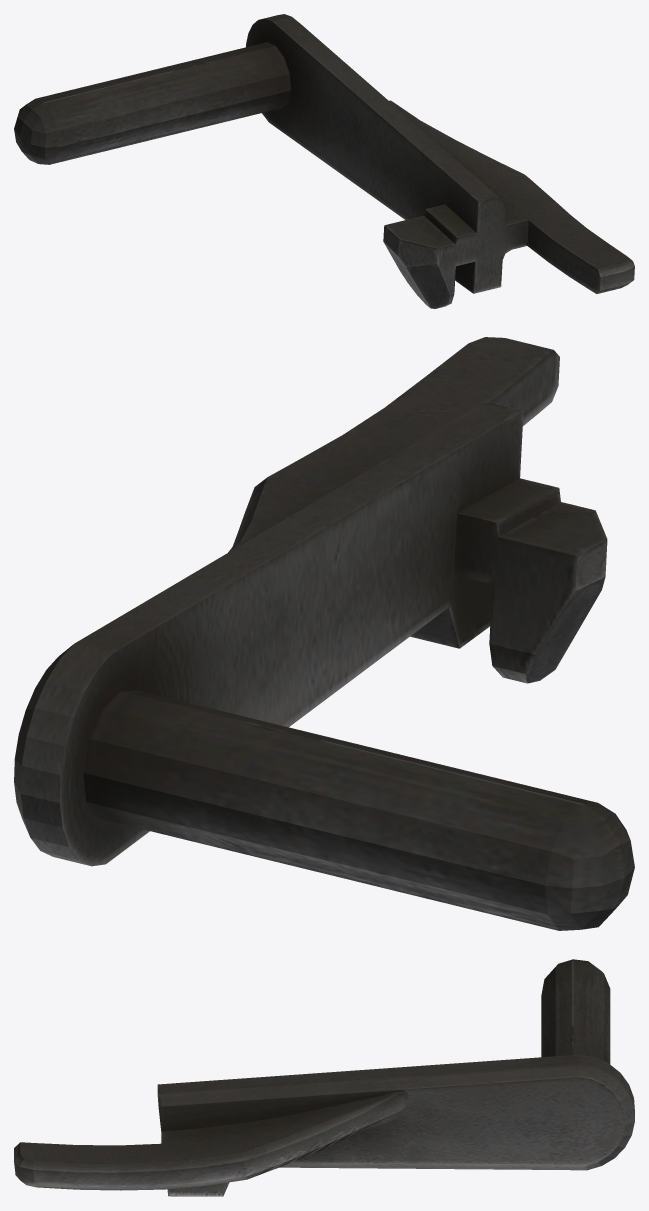
3 renders of one model, top to bottom at view 1: azimuth 30°, elevation 25°; view 2: azimuth 150°, elevation 25°; view 3: azimuth 270°, elevation 25°, orthographic. The views are drawn at different scales.
Visible parts, largest first — view 1: TW_5ef3553c43cb350a955a7ccb_PZ_Import; view 2: TW_5ef3553c43cb350a955a7ccb_PZ_Import; view 3: TW_5ef3553c43cb350a955a7ccb_PZ_Import.
Part boxes in pixels (x1,y1,x2,y2): TW_5ef3553c43cb350a955a7ccb_PZ_Import: [14, 14, 634, 308]; TW_5ef3553c43cb350a955a7ccb_PZ_Import: [14, 337, 634, 930]; TW_5ef3553c43cb350a955a7ccb_PZ_Import: [14, 959, 634, 1196].
Bounding box in the file's own units: 0.0176 × 0.0265 × 0.00682.
1 material, 1 textured.
